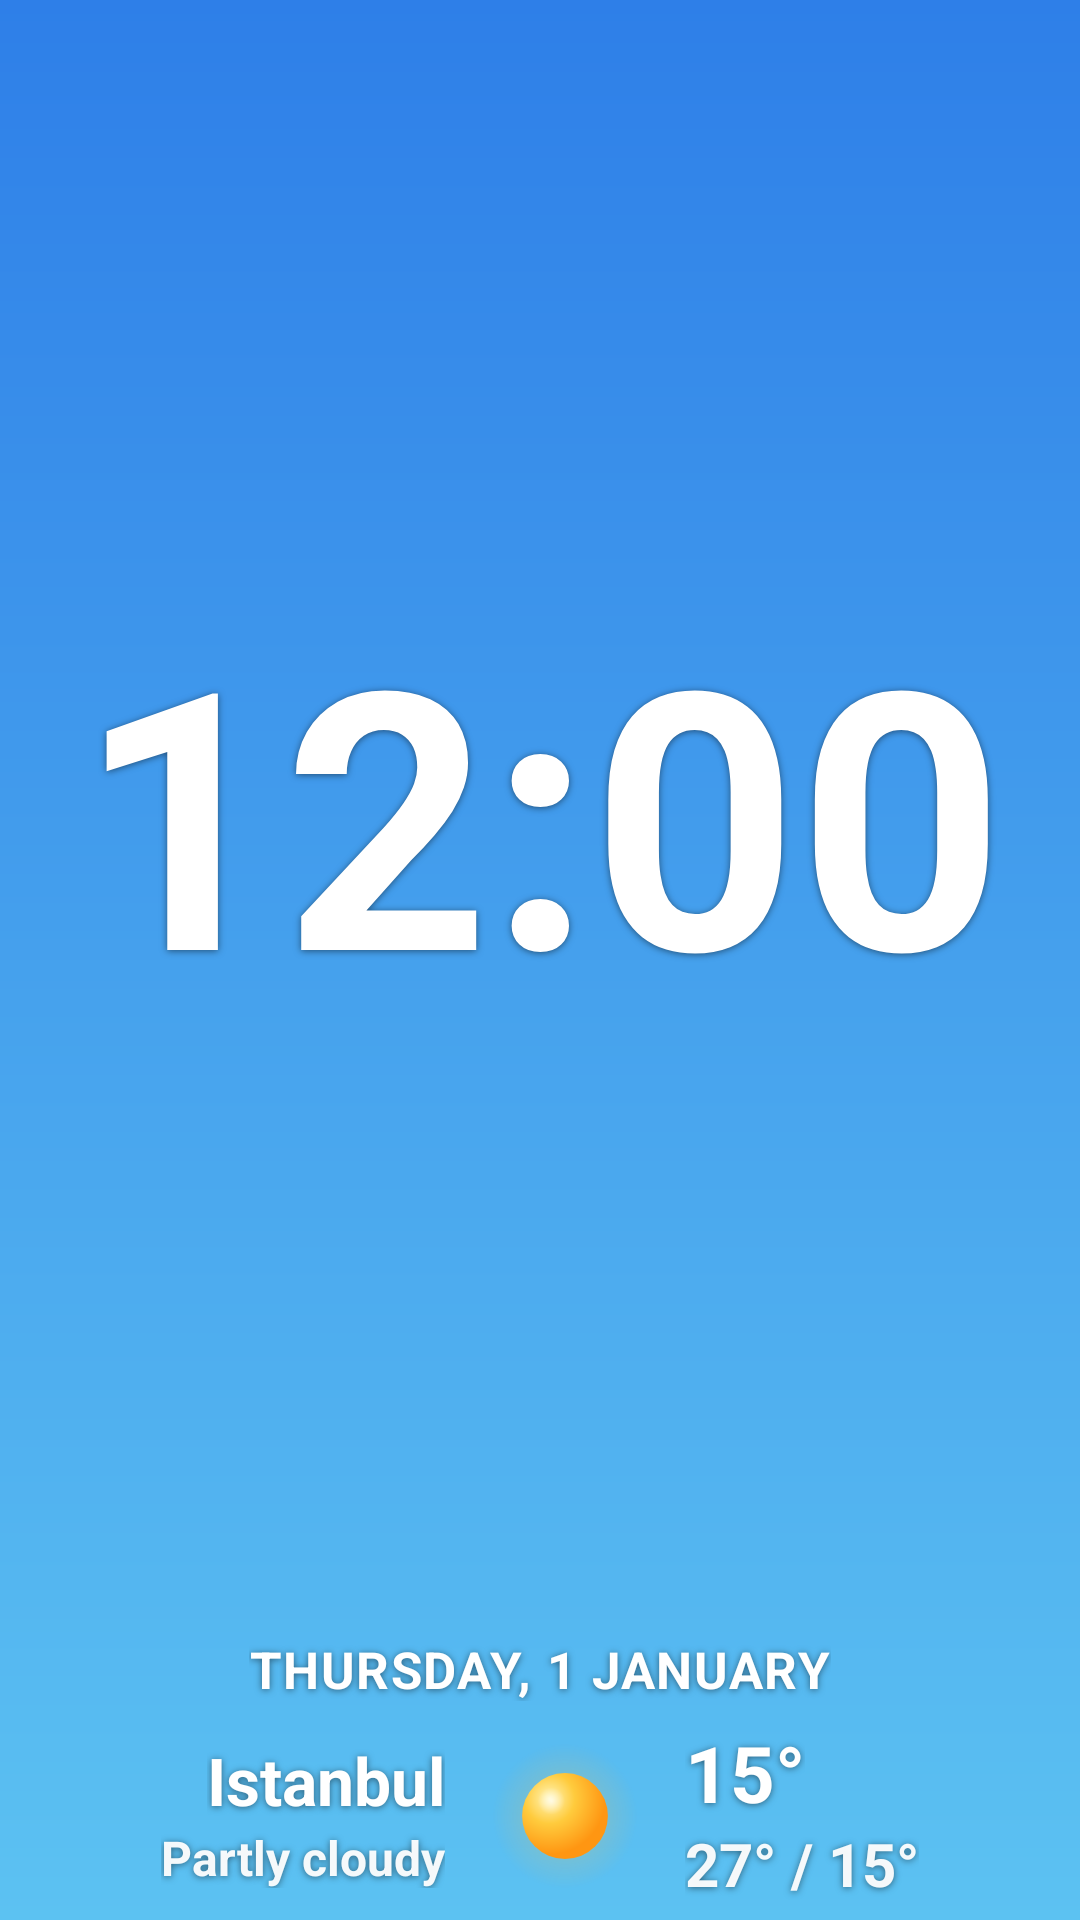

Named icons in this screenshot (1080px x 1920px) and their bounding boxes, bbox(x1, y1, x2, y2):
sun: bbox(520, 1771, 610, 1861)
